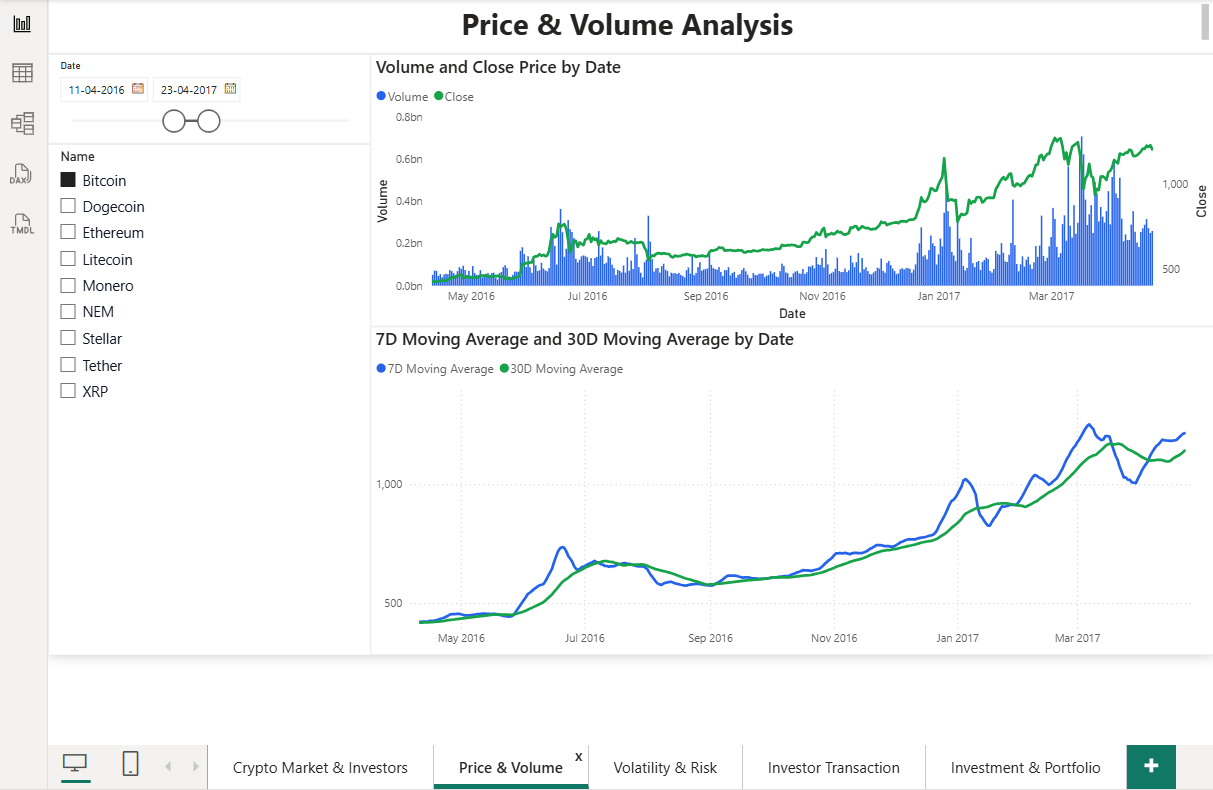

This screenshot's page, from the dashboard's own definition file:
{"tool":"powerbi","page":{"name":"Price & Volume","canvas":[1280,720],"ordinal":1},"visuals":[{"type":"textbox","box":[0,0,1280.3,60.4],"z":0},{"type":"slicer","fields":{"Values":["Crypto_historical_prices.Name"]},"box":[0,159.2,354,561.2],"z":1000},{"type":"slicer","fields":{"Values":["Date.Date"]},"box":[0,60.4,354,98.8],"z":2000},{"type":"lineClusteredColumnComboChart","title":"Volume and Close Price by Date","fields":{"Category":["Date.Date"],"Y2":["Sum(Crypto_historical_prices.Close)"],"Y":["Sum(Crypto_historical_prices.Volume)"]},"box":[354,60.4,926.2,299.1],"z":3000},{"type":"lineChart","fields":{"Y":["Crypto_historical_prices.7D Moving Average","Crypto_historical_prices.30D Moving Average"],"Category":["Date.Date"]},"box":[354,359,926,361],"z":4000}]}

Visuals, with their boxes on the page's 1280x720 design canvas (x1, y1, x2, y2). These are canvas units, not pixel positions in the 1213x790 screenshot, which may show the page scaled, cropped or inside an application window:
textbox: {"left": 0, "top": 0, "right": 1280, "bottom": 60}
slicer - Crypto_historical_prices.Name: {"left": 0, "top": 159, "right": 354, "bottom": 720}
slicer - Date.Date: {"left": 0, "top": 60, "right": 354, "bottom": 159}
"Volume and Close Price by Date" lineClusteredColumnComboChart: {"left": 354, "top": 60, "right": 1280, "bottom": 360}
lineChart - Crypto_historical_prices.7D Moving Average x Crypto_historical_prices.30D Moving Average: {"left": 354, "top": 359, "right": 1280, "bottom": 720}
